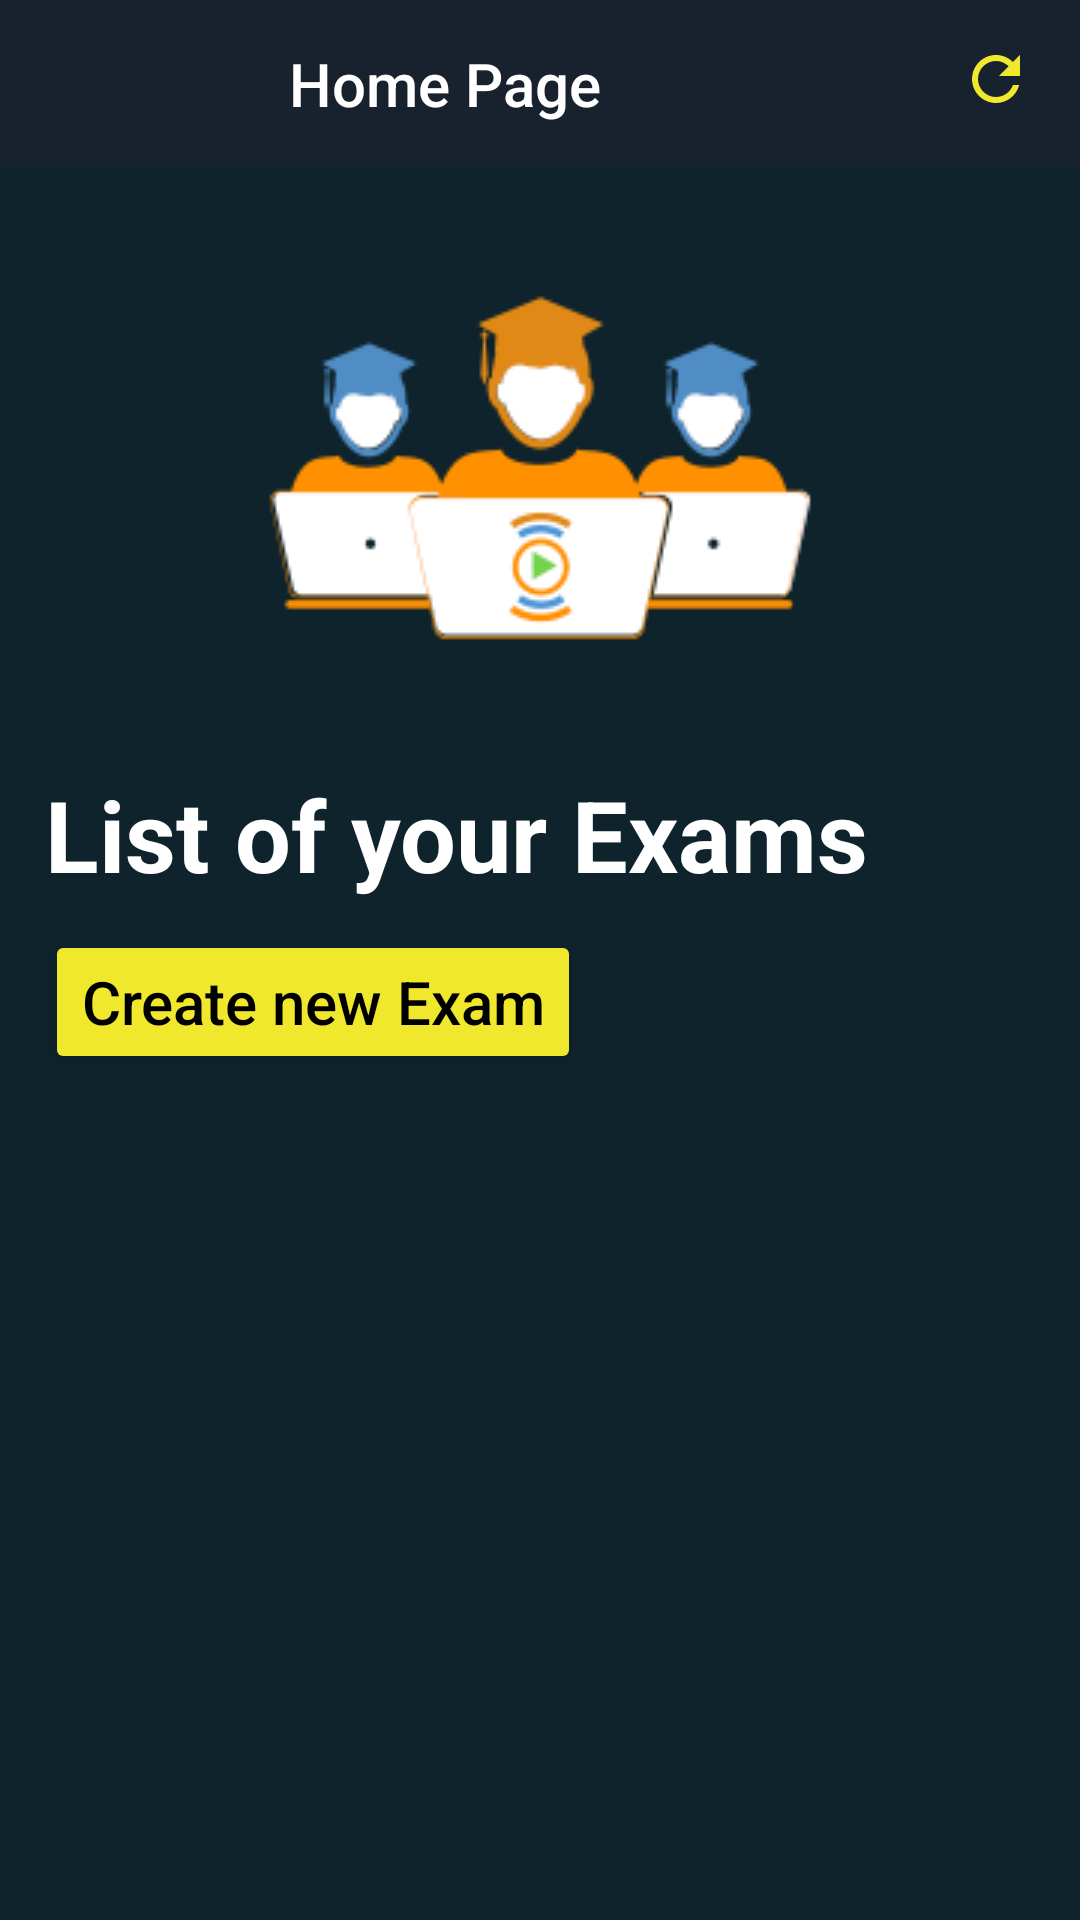

Point at icon controls on the screen. Image size 1080w x 1920h, points as (x,y).
refresh: (996,79)
